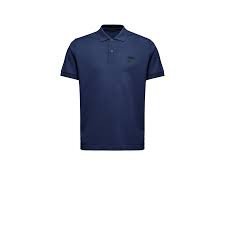C_polo shirt: (54, 24, 170, 157)
